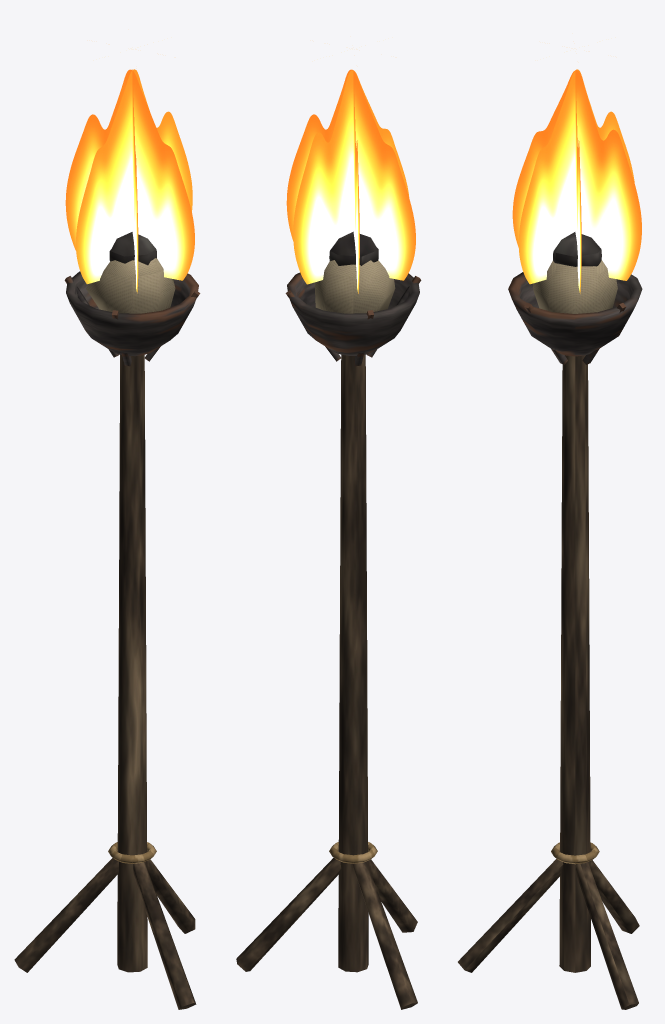
File: torcia_su_palo.gltf
3 renders of one model, left to right at view 1: azimuth 30°, elevation 25°; view 2: azimuth 150°, elevation 25°; view 3: azimuth 270°, elevation 25°, orthographic.
Parts seen in each view (by area): view 1: torcia_su_palo; view 2: torcia_su_palo; view 3: torcia_su_palo.
Boxes of the visible parts, bbox=[...] form: torcia_su_palo: bbox=[14, 69, 200, 1009]; torcia_su_palo: bbox=[236, 69, 421, 1009]; torcia_su_palo: bbox=[458, 69, 642, 1009].
Size of the model in its own units: 0.5236 by 2.58 by 0.4884.
6 materials, 6 textured.
